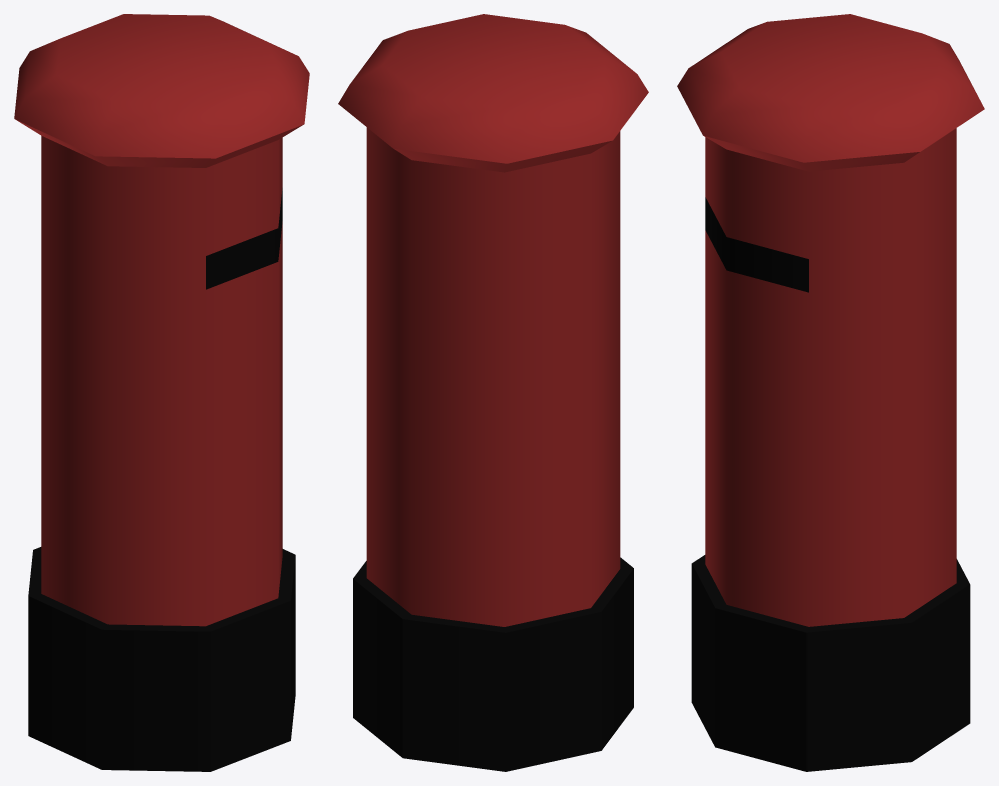
The model's file is Postbox.fbx.
3 views of the same model, side by side, from view 1: azimuth 30°, elevation 25°; view 2: azimuth 150°, elevation 25°; view 3: azimuth 270°, elevation 25° (orthographic).
Visible parts, largest first — view 1: Third Module001; view 2: Third Module001; view 3: Third Module001.
Boxes of the visible parts, x1,y1,x2,y2 form: Third Module001: (14,14,309,771); Third Module001: (338,14,648,771); Third Module001: (677,14,984,771).
Size of the model in its own units: 36.2 by 84.71 by 36.2.
